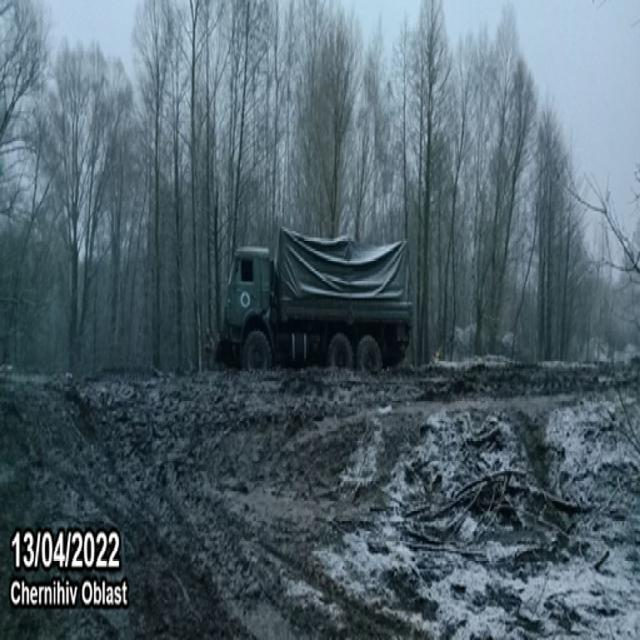TRUCK: (208, 204, 412, 380)
